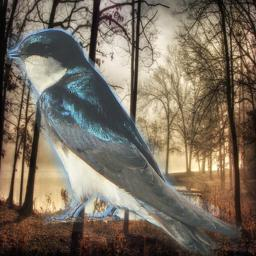Swallow: (7, 28, 242, 256)
